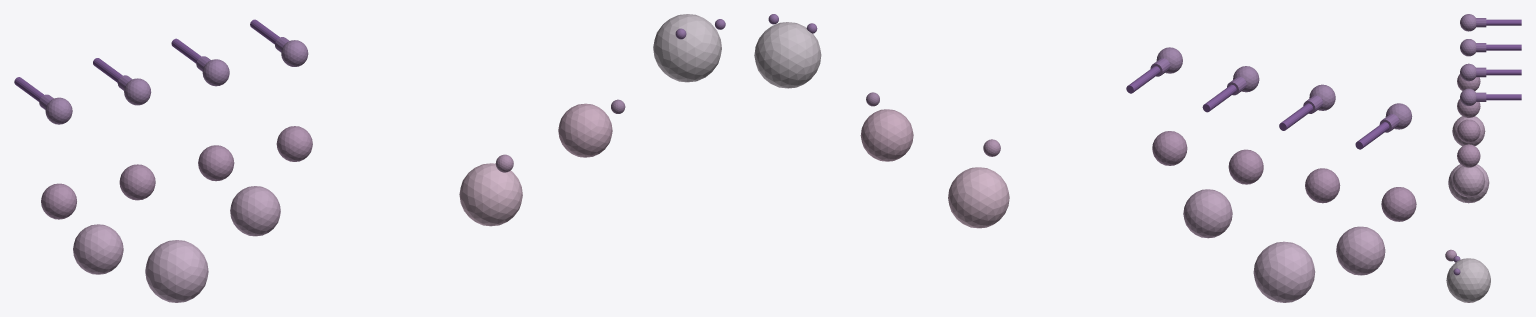
Rendered from gamete_formation.glb.
The picture shows the model from 3 angles, left to right: view 1: azimuth 30°, elevation 25°; view 2: azimuth 150°, elevation 25°; view 3: azimuth 270°, elevation 25°; orthographic projection. The views are drawn at different scales.
Visible parts, largest first — view 1: world; view 2: world; view 3: world.
Part boxes in pixels (x1,y1,x2,y2): world: (14, 14, 725, 302); world: (754, 14, 1416, 302); world: (1445, 14, 1521, 302).
Bounding box in the file's own units: 8.58 × 2.8 × 1.3.
